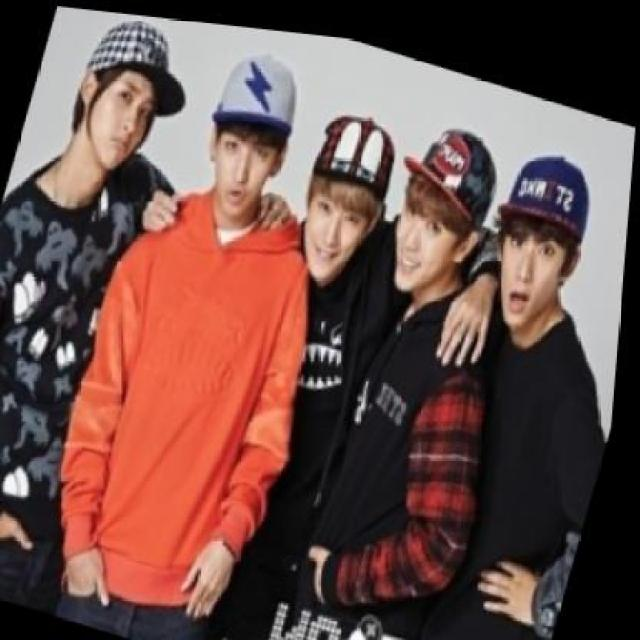hat: (391, 101, 512, 213), (82, 8, 203, 112), (496, 120, 606, 234), (208, 42, 308, 144), (310, 91, 408, 195)
